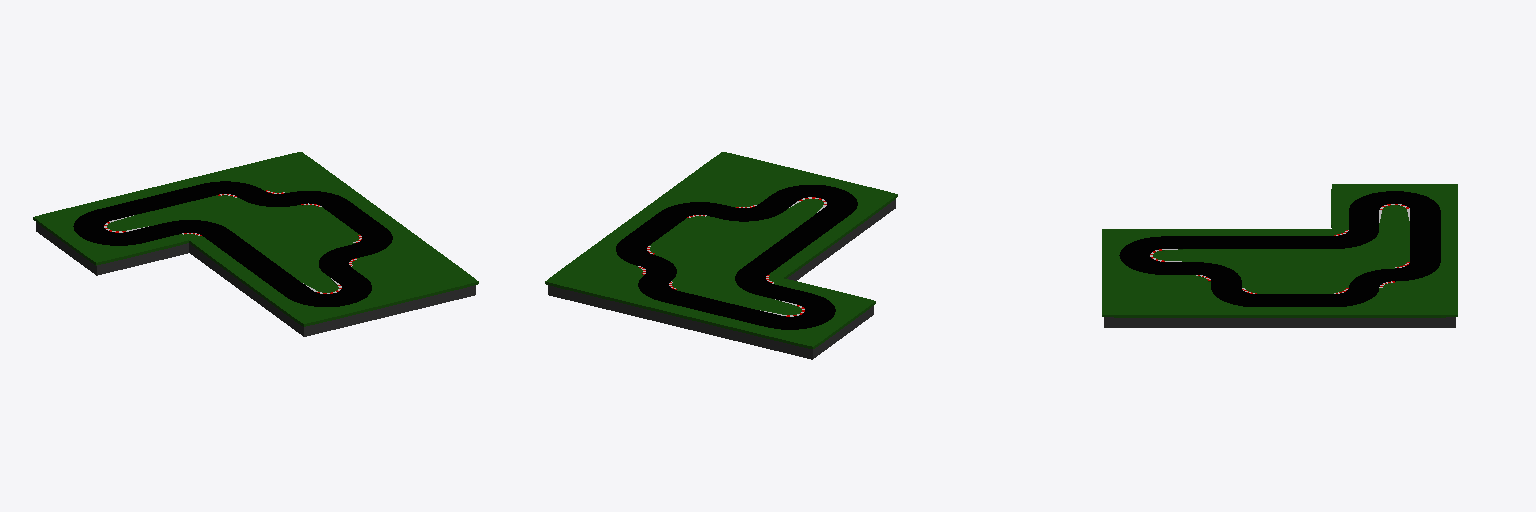
The model's file is track.obj.
3 renders of one model, left to right at view 1: azimuth 30°, elevation 25°; view 2: azimuth 150°, elevation 25°; view 3: azimuth 270°, elevation 25°, orthographic.
Parts seen in each view (by area): view 1: Plane; view 2: Plane; view 3: Plane.
Boxes of the visible parts, x1,y1,x2,y2 form: Plane: [33, 152, 478, 336]; Plane: [545, 152, 897, 359]; Plane: [1102, 184, 1457, 327].
Bounding box in the file's own units: 101 × 5.09 × 116.